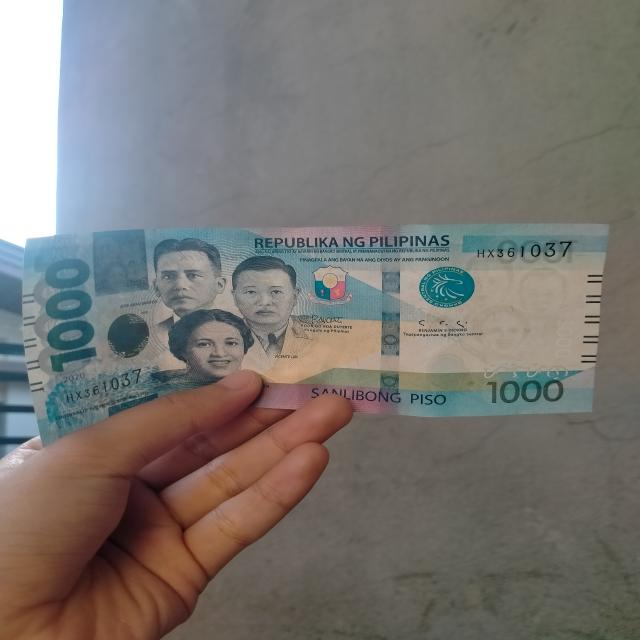concealed_value: (93, 228, 152, 294)
optically_variable_device: (97, 303, 160, 368)
security_thread: (374, 225, 402, 417)
see_through_mark: (473, 361, 571, 386)
serial_number: (61, 367, 146, 406), (474, 237, 576, 260)
value_watermark: (552, 317, 573, 360)
watermark: (451, 252, 566, 364)
